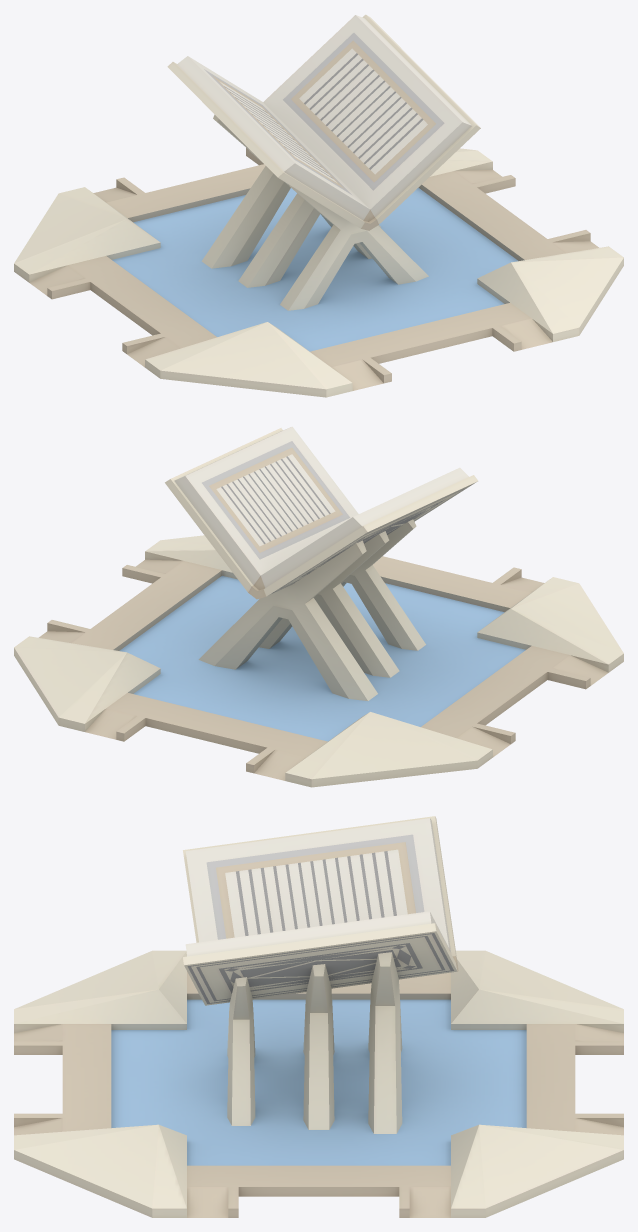
File: kingfahdcomplex2.glb
3 views of the same model, one above another, from view 1: azimuth 30°, elevation 25°; view 2: azimuth 150°, elevation 25°; view 3: azimuth 270°, elevation 25° (orthographic). The views are drawn at different scales.
Parts seen in each view (by area): view 1: kingfahdcomplex2; view 2: kingfahdcomplex2; view 3: kingfahdcomplex2.
Part boxes in pixels (x1,y1,x2,y2): kingfahdcomplex2: (14,14,623,397); kingfahdcomplex2: (14,426,623,787); kingfahdcomplex2: (14,816,623,1217).
Size of the model in its own units: 17.68 by 7.2 by 17.68.
1 material, 1 textured.
